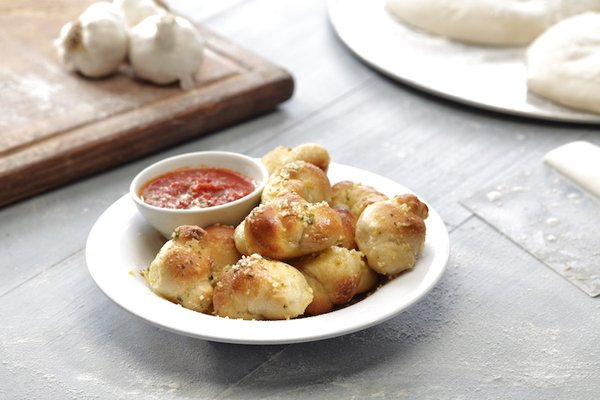sushi: (129, 150, 269, 240)
